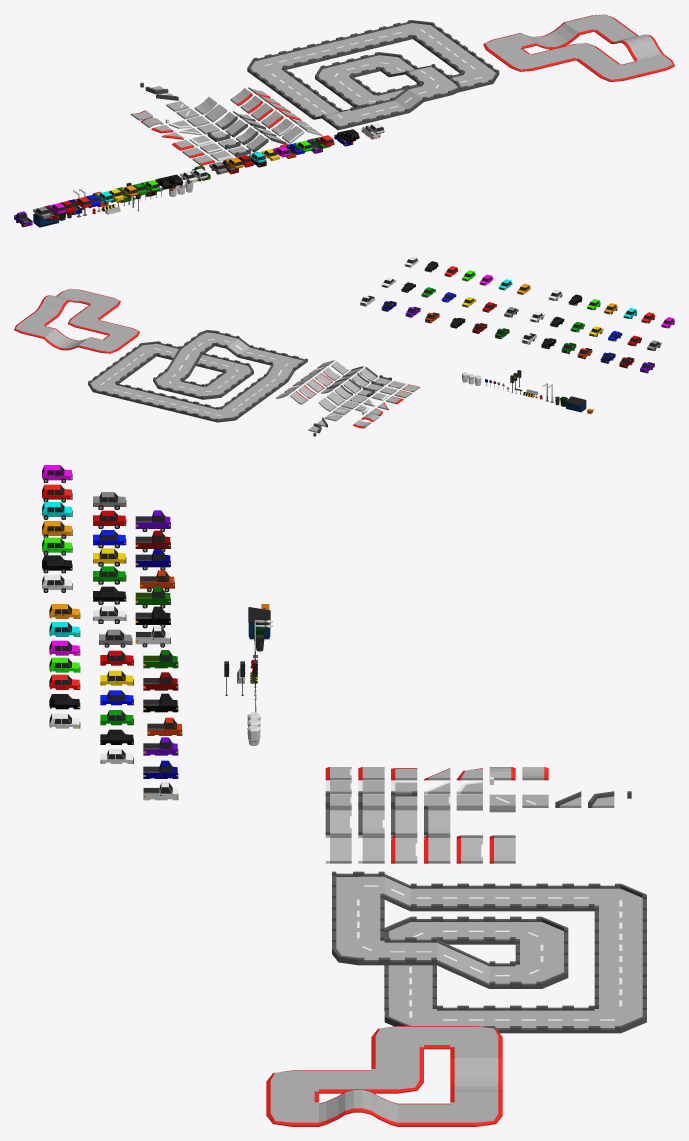
Rendered from Low Poly Cars and Roads.fbx.
The picture shows the model from 3 angles, top to bottom: view 1: azimuth 30°, elevation 25°; view 2: azimuth 150°, elevation 25°; view 3: azimuth 270°, elevation 25°; orthographic projection. The views are drawn at different scales.
Visible parts, largest first — view 1: Road Example 1, Racing Track Example 1; view 2: Road Example 1, Racing Track Example 1; view 3: Road Example 1, Racing Track Example 1.
Part boxes in pixels (<box>): Road Example 1: <box>247,20,499,130</box>; Racing Track Example 1: <box>483,14,674,81</box>; Road Example 1: <box>88,330,307,422</box>; Racing Track Example 1: <box>14,288,139,353</box>; Road Example 1: <box>332,871,646,1033</box>; Racing Track Example 1: <box>266,1026,502,1126</box>.
Size of the model in its own units: 195 by 23.32 by 92.22.
